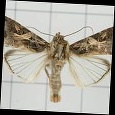Spodoptera litura: (3, 18, 112, 103)
